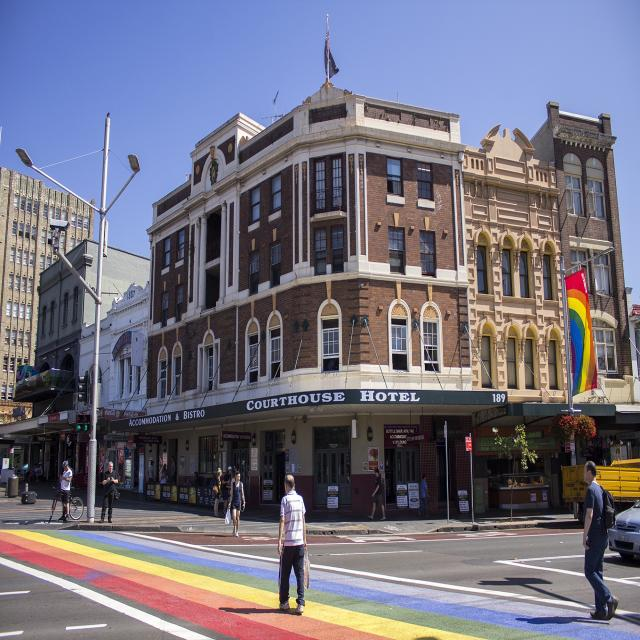body: (582, 458, 620, 623), (276, 473, 310, 615), (224, 471, 246, 538), (98, 460, 118, 524), (514, 614, 610, 626), (366, 467, 387, 521), (58, 459, 73, 522), (215, 606, 304, 616), (221, 466, 233, 518), (416, 472, 429, 518), (212, 466, 222, 518), (227, 468, 237, 519), (1, 517, 58, 524), (23, 463, 34, 483), (170, 455, 176, 486), (35, 463, 44, 483), (148, 460, 155, 484), (29, 463, 37, 483), (191, 471, 200, 488), (208, 472, 216, 488), (7, 463, 13, 483), (161, 463, 168, 480), (34, 464, 40, 482), (184, 477, 192, 486), (14, 460, 21, 468), (79, 466, 85, 474), (235, 464, 239, 471)
